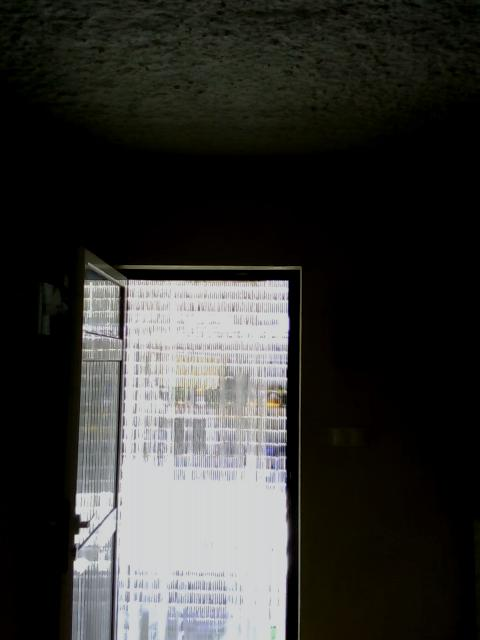open_door: (106, 264, 299, 639)
